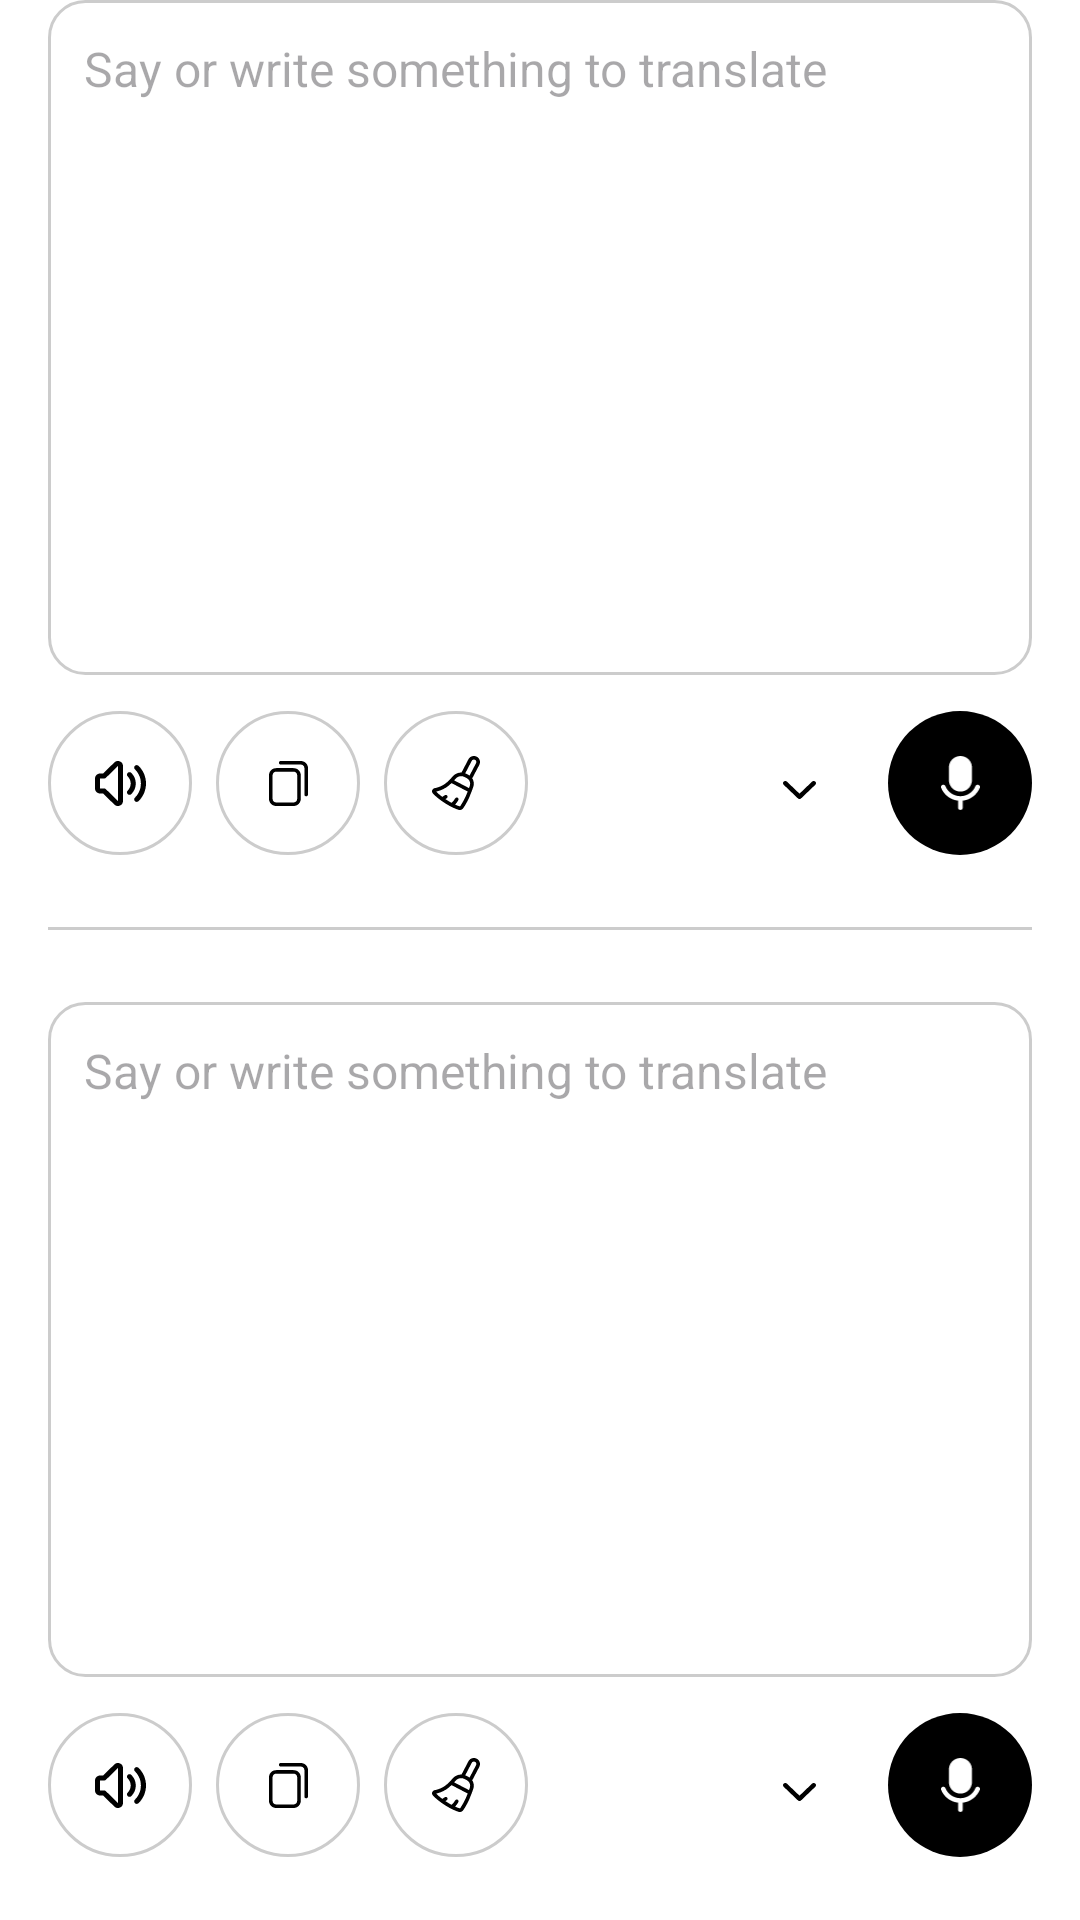

Where to tap for icons on this 1080 × 1920 app screen, as (x=x, y=y):
Clear text: (x=456, y=783), (x=456, y=1785)
Copy text: (x=288, y=783), (x=288, y=1785)
Speak text: (x=120, y=783), (x=120, y=1785)
